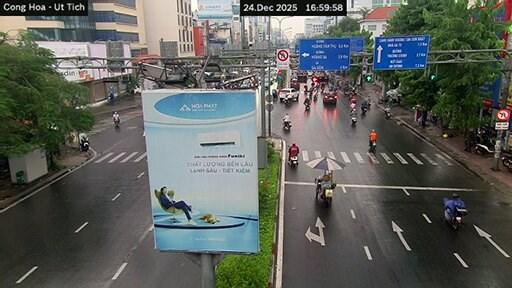motorbike: (315, 179, 335, 206), (445, 207, 466, 229), (475, 139, 495, 154), (501, 150, 511, 171), (79, 137, 89, 151), (289, 156, 297, 167), (369, 141, 376, 153), (107, 93, 114, 103), (384, 107, 390, 118), (283, 121, 291, 129), (113, 119, 119, 128), (351, 115, 356, 125), (361, 106, 367, 114), (305, 103, 310, 111), (313, 92, 317, 100)
